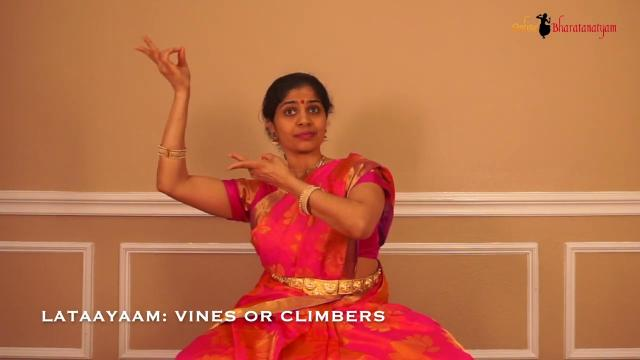kartarimukh: (122, 25, 210, 106), (206, 135, 298, 195)
